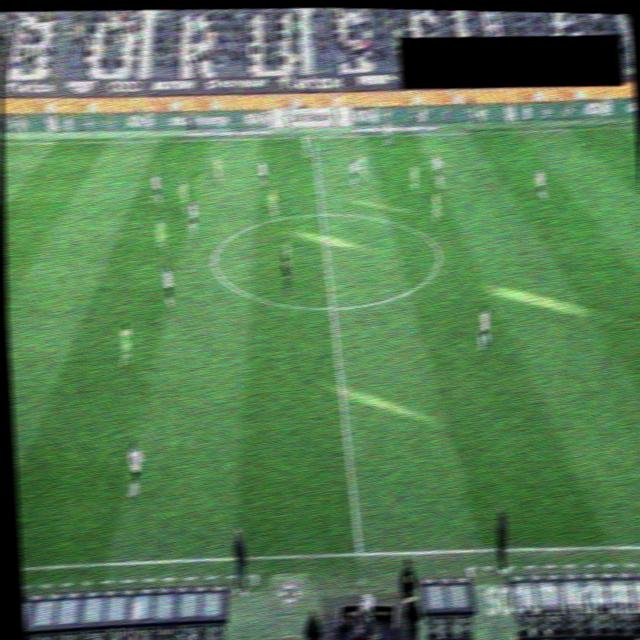halfcircle_bottom: (325, 302, 339, 314)
halfcircle_top: (314, 207, 329, 219)
midline_bottom_intersection: (349, 543, 369, 562)
midline_top_intersection: (305, 131, 319, 142)
